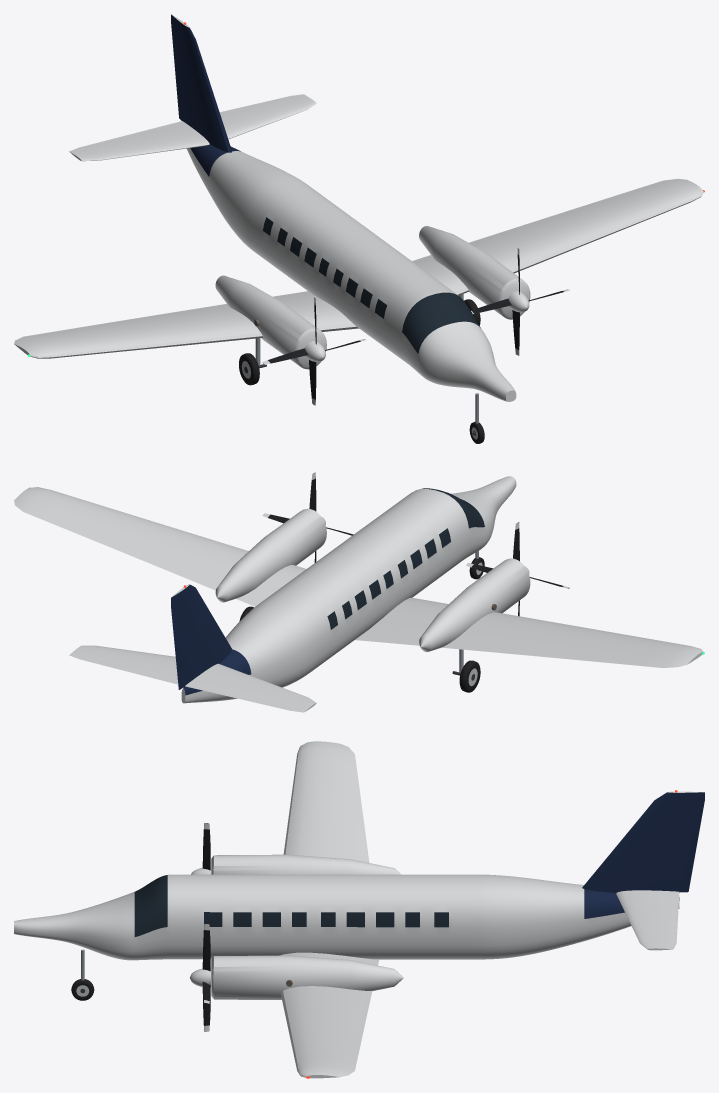
The model's file is turboprop-commuter.glb.
3 renders of one model, top to bottom at view 1: azimuth 30°, elevation 25°; view 2: azimuth 150°, elevation 25°; view 3: azimuth 270°, elevation 25°, orthographic.
Visible parts, largest first — view 1: Turboprop_Commuter, Propeller_R, Propeller_L; view 2: Turboprop_Commuter, Wheel_R, Propeller_R, Propeller_L; view 3: Turboprop_Commuter, Propeller_L.
Part boxes in pixels (left/top/right/bottom): Turboprop_Commuter: left=14, top=14, right=704, bottom=434; Propeller_R: left=262, top=297, right=365, bottom=405; Propeller_L: left=471, top=248, right=569, bottom=355; Turboprop_Commuter: left=14, top=476, right=704, bottom=712; Wheel_R: left=459, top=660, right=480, bottom=692; Propeller_R: left=466, top=522, right=569, bottom=616; Propeller_L: left=262, top=472, right=353, bottom=562; Turboprop_Commuter: left=14, top=741, right=704, bottom=1078; Propeller_L: left=190, top=923, right=210, bottom=1031.
Bounding box in the file's own units: 17.29 × 5.05 × 15.06.
